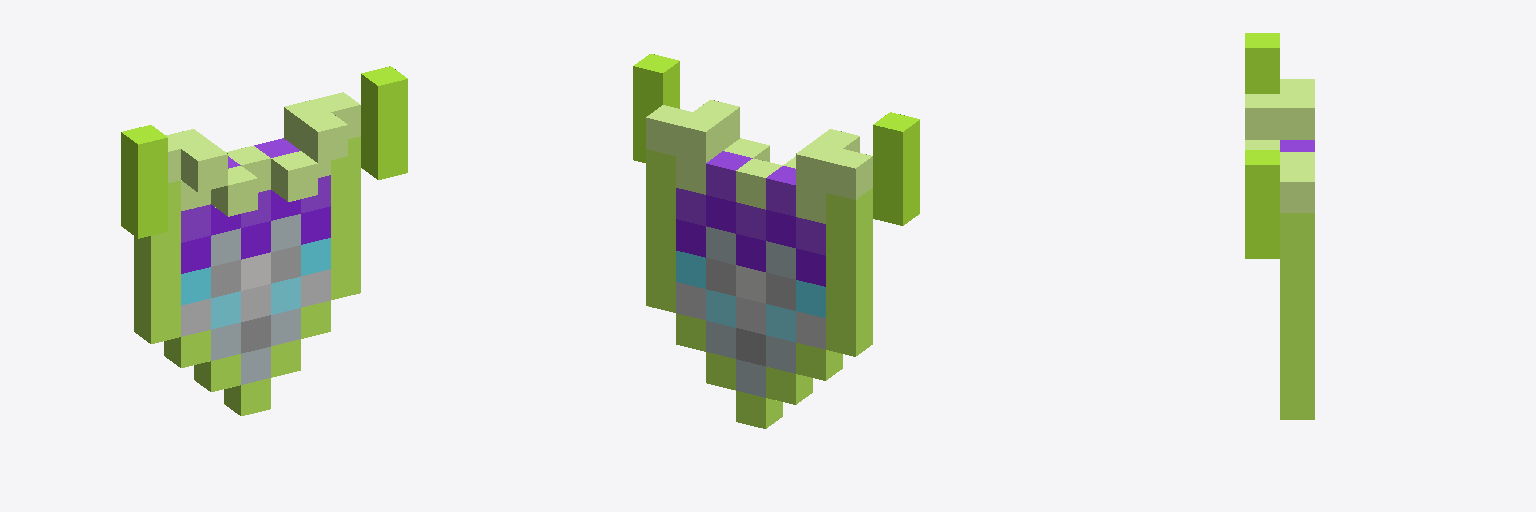
The picture shows the model from 3 angles: view 1: azimuth 30°, elevation 25°; view 2: azimuth 150°, elevation 25°; view 3: azimuth 270°, elevation 25°; orthographic projection.
Parts seen in each view (by area): view 1: TerraLordMissionStandard; view 2: TerraLordMissionStandard; view 3: TerraLordMissionStandard.
Boxes of the visible parts, x1=… form: TerraLordMissionStandard: x1=121, y1=66, x2=407, y2=415; TerraLordMissionStandard: x1=633, y1=54, x2=919, y2=428; TerraLordMissionStandard: x1=1245, y1=33, x2=1314, y2=419.
Size of the model in its own units: 9 by 10 by 2.
1 materials, 1 textured.